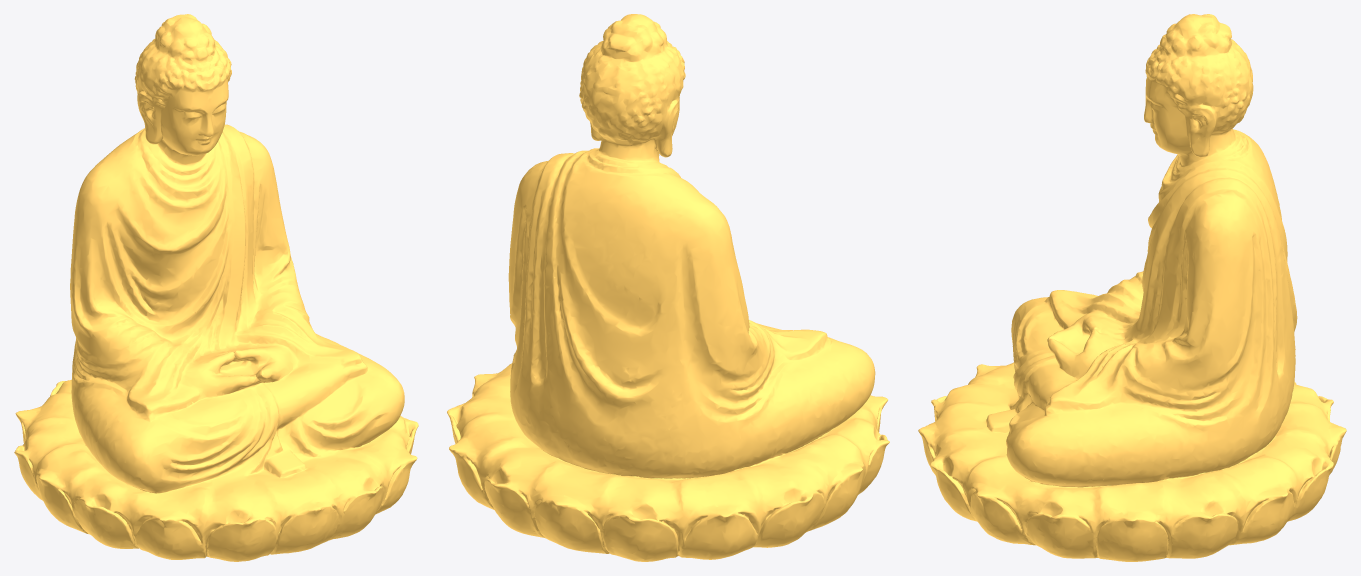
3 views of the same model, side by side, from view 1: azimuth 30°, elevation 25°; view 2: azimuth 150°, elevation 25°; view 3: azimuth 270°, elevation 25° (orthographic). The views are drawn at different scales.
Visible parts, largest first — view 1: Mesh1.0; view 2: Mesh1.0; view 3: Mesh1.0.
Boxes of the visible parts, box(x1,y1,x2,y2) form: Mesh1.0: box(14, 14, 418, 561); Mesh1.0: box(447, 14, 889, 561); Mesh1.0: box(918, 14, 1346, 561).
Size of the model in its own units: 0.82 by 1 by 0.8198.
